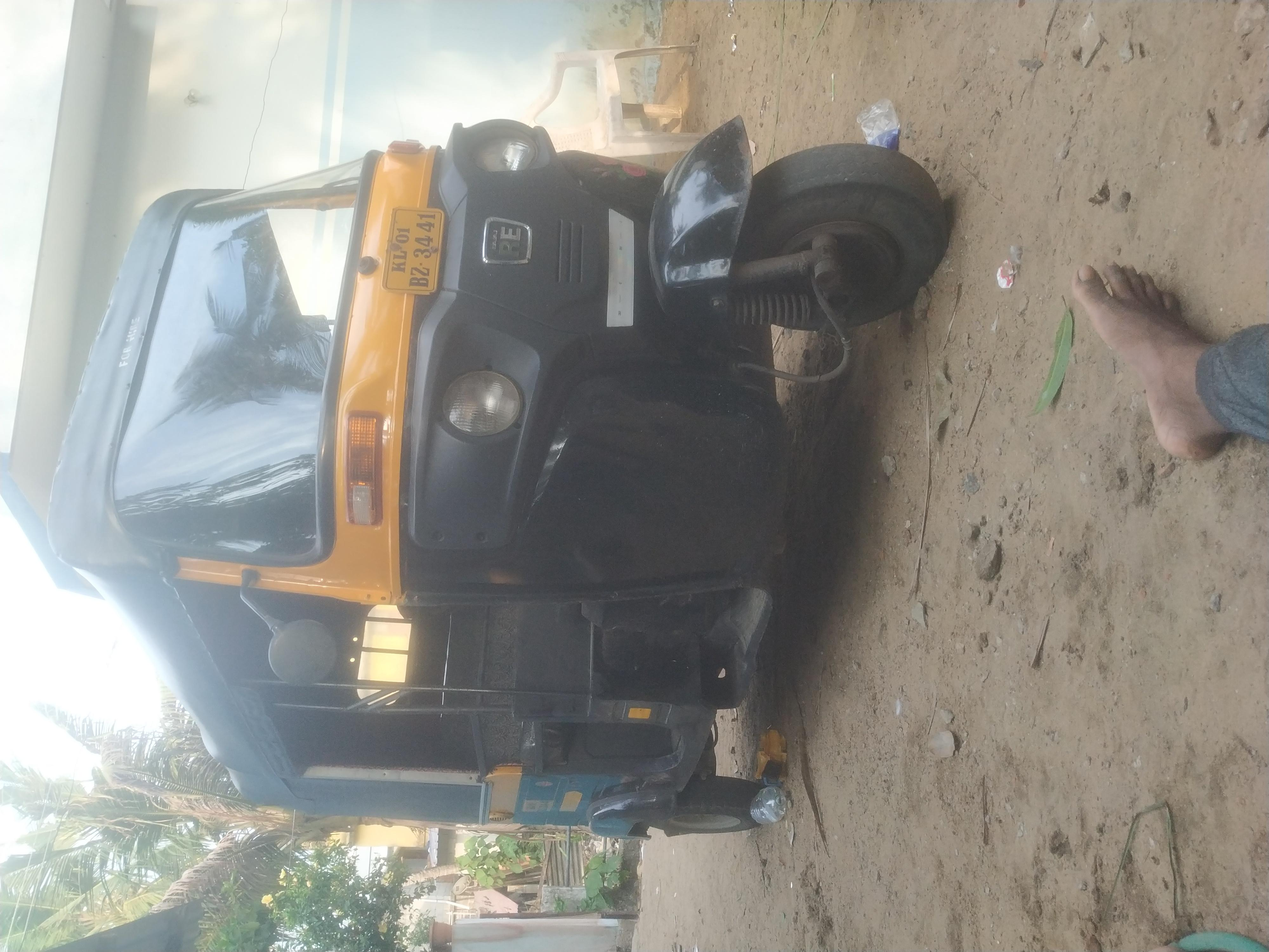Auto: (144, 25, 1119, 712)
